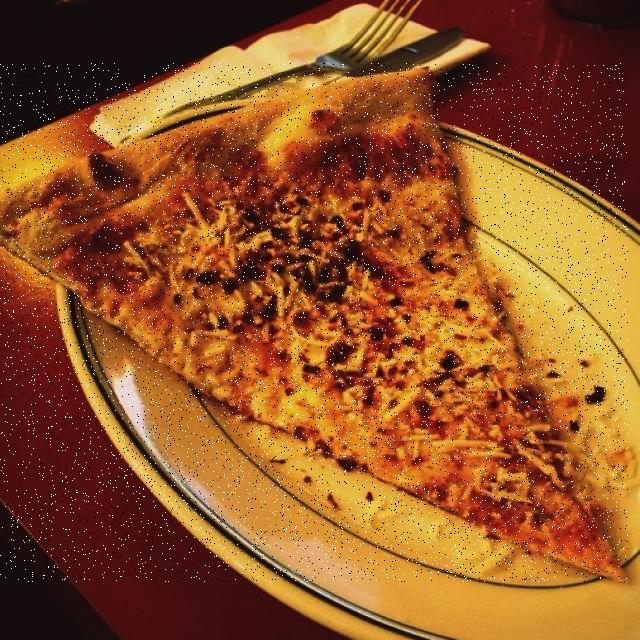Pizza: (0, 63, 628, 582)
